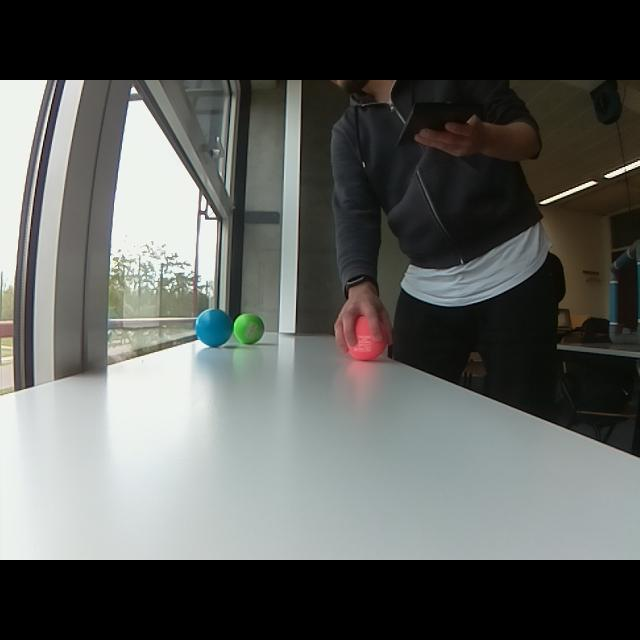ball: (192, 304, 232, 350), (232, 309, 266, 347)
